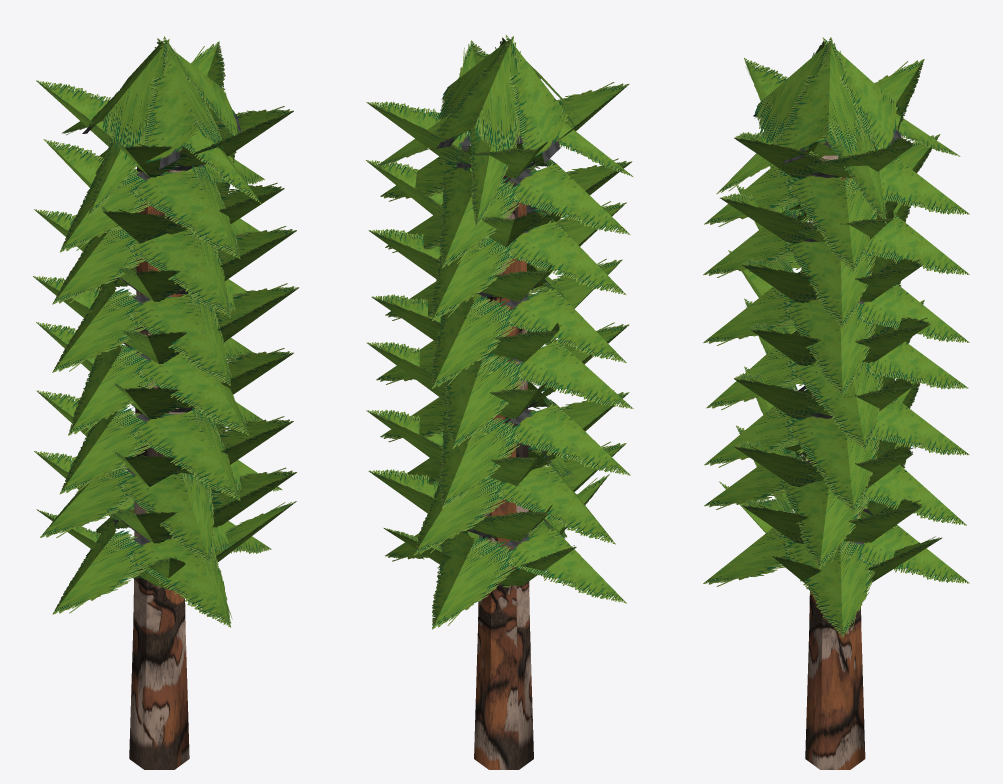
The model's file is mod_natural_bigPineTree_terrain.fbx.
The picture shows the model from 3 angles, left to right: view 1: azimuth 30°, elevation 25°; view 2: azimuth 150°, elevation 25°; view 3: azimuth 270°, elevation 25°; orthographic projection.
Parts seen in each view (by area): view 1: mesh_tree_LOD0; view 2: mesh_tree_LOD0; view 3: mesh_tree_LOD0.
Boxes of the visible parts, left/top/right/bottom form: mesh_tree_LOD0: left=33, top=36, right=299, bottom=769; mesh_tree_LOD0: left=366, top=35, right=633, bottom=769; mesh_tree_LOD0: left=703, top=37, right=969, bottom=769.
Size of what is drawn, in the model's own units: 4815 by 12855 by 4816.
